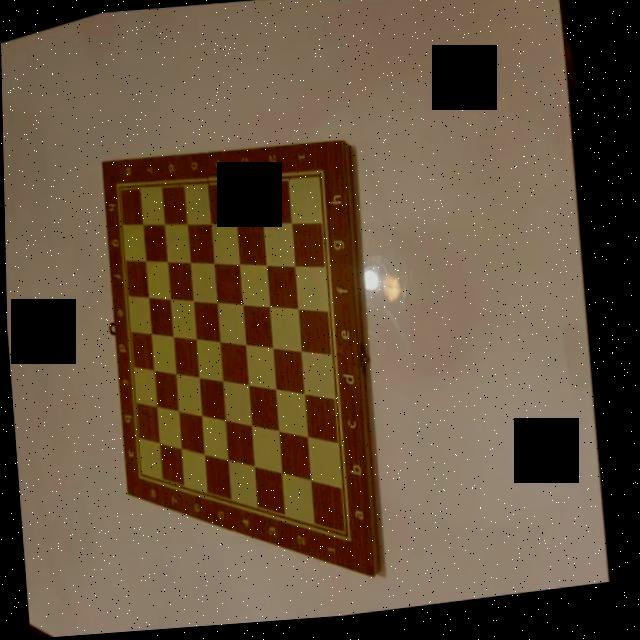chess-table-corners: (342, 532, 356, 549), (136, 466, 148, 484), (324, 163, 336, 178), (122, 180, 132, 192)
